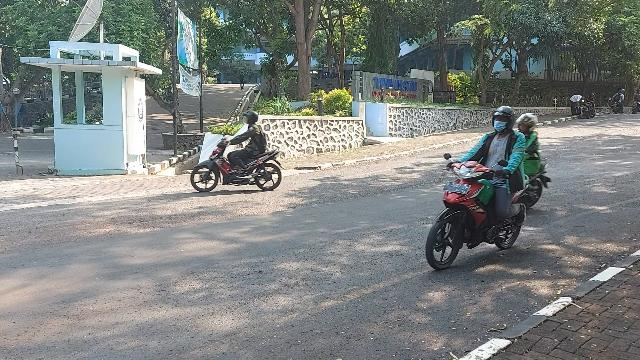helm: (493, 107, 516, 133), (517, 113, 539, 133), (243, 112, 260, 125)
motor: (427, 154, 530, 270), (192, 134, 287, 193)
